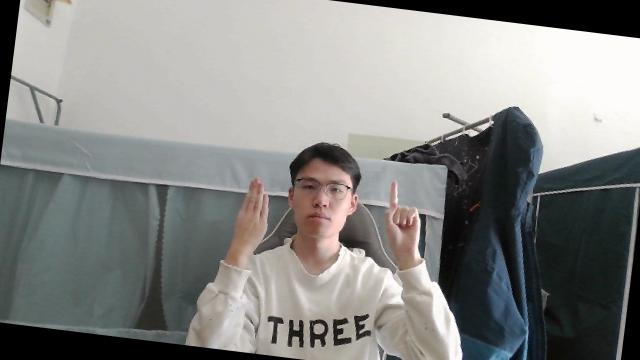four: (233, 174, 274, 246)
one: (381, 179, 426, 253)
